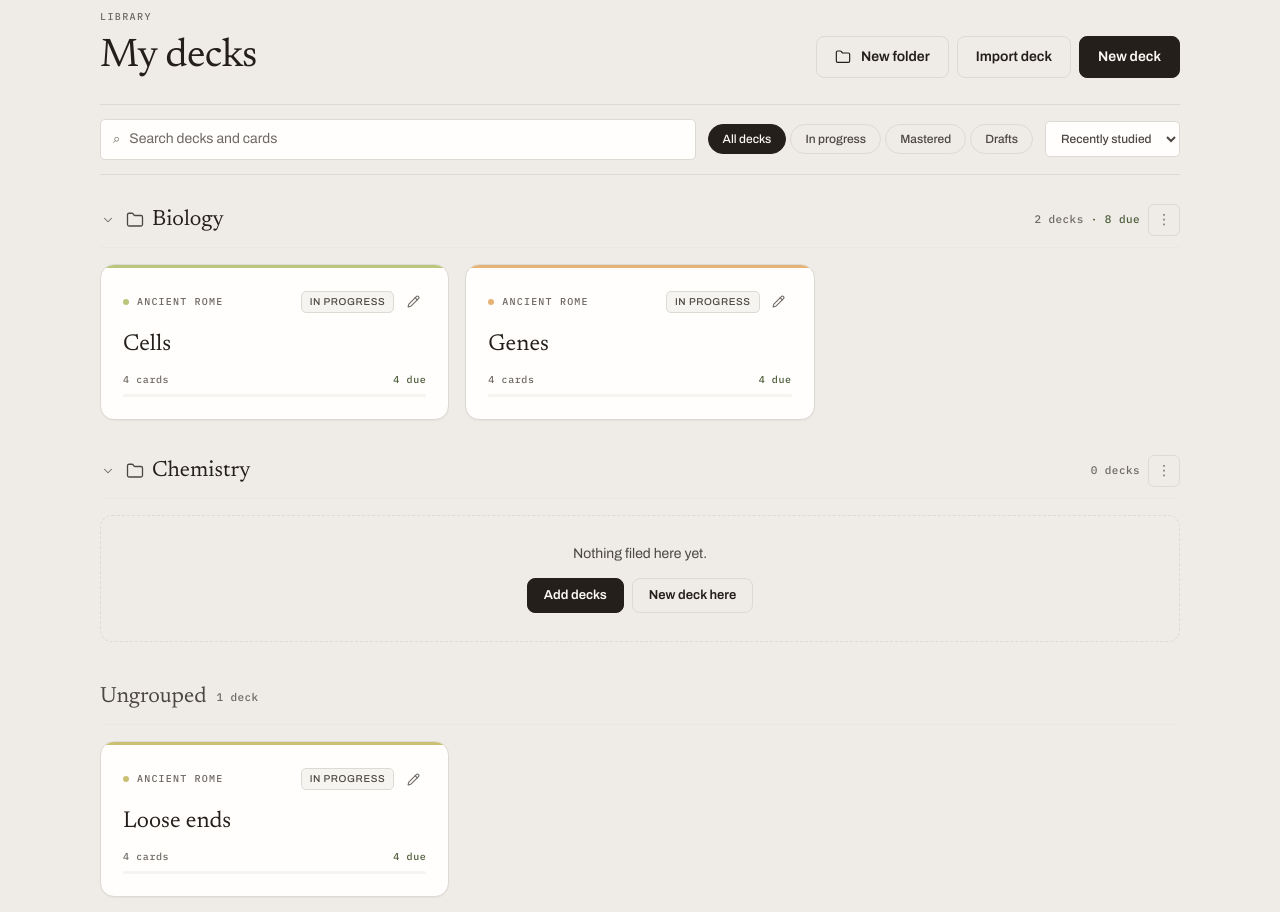
Test: a library with folders › says so when a search matches nothing anywhere
In the field labelled "Search decks and cards": [406, 140] box [129,130,683,150], type "zzz"
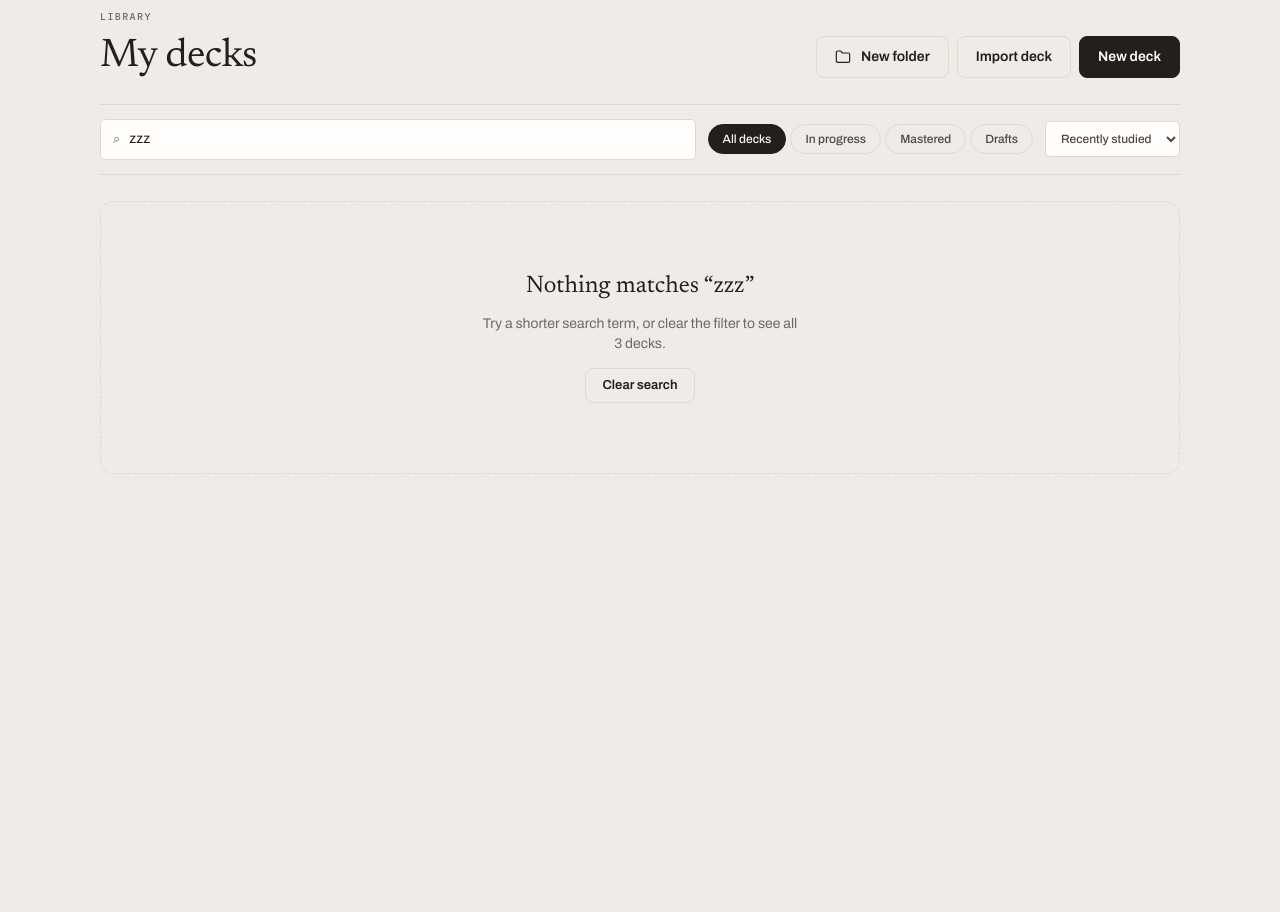
Expected: the text "Nothing matches “zzz”" is shown, [526,272,754,300]
